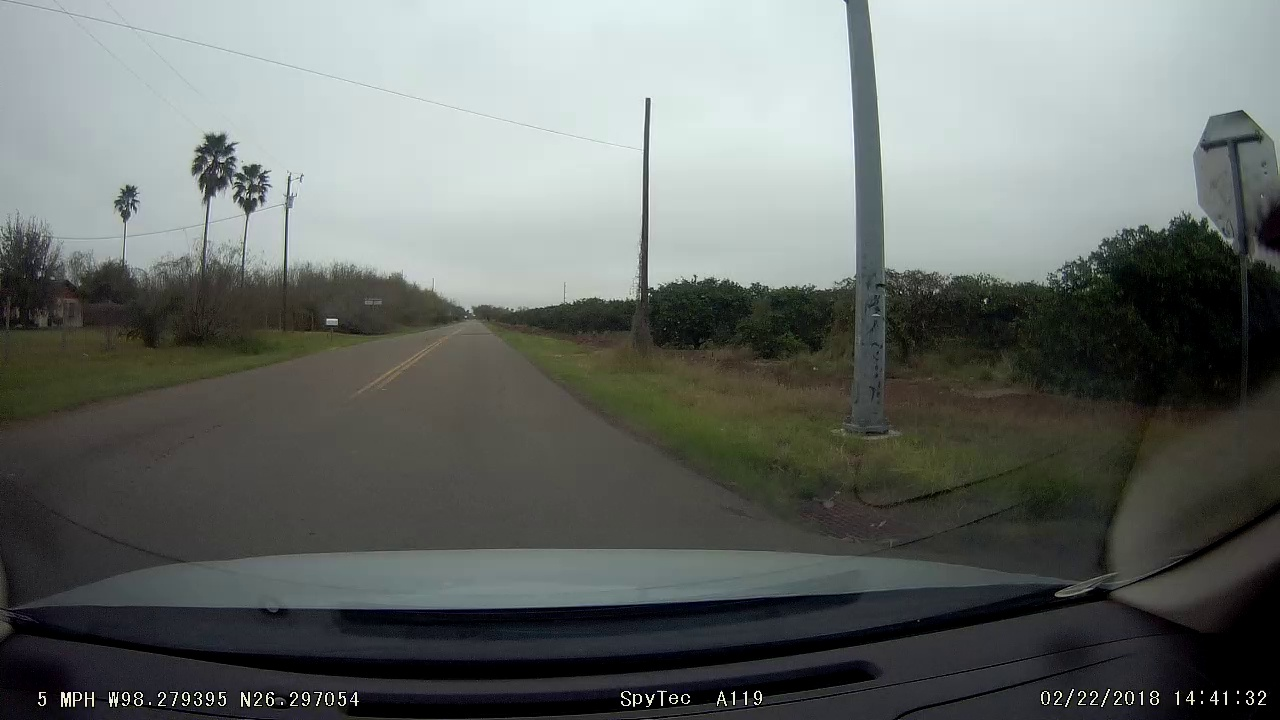blurredLine: (313, 378, 400, 452)
